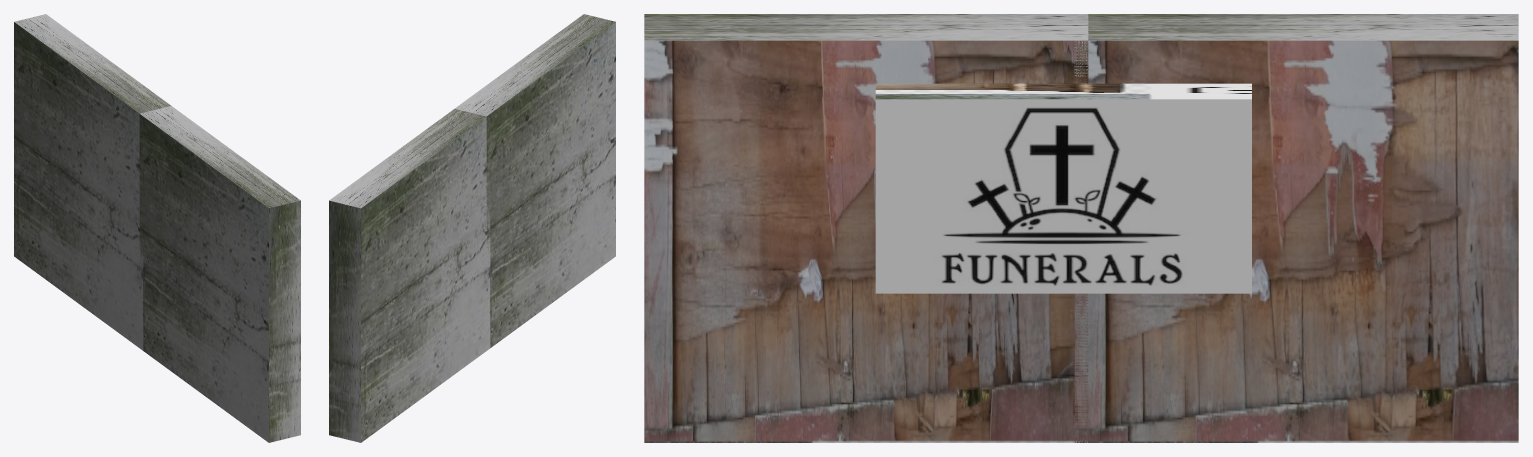
File: Cementery Wall.fbx
The picture shows the model from 3 angles, left to right: view 1: azimuth 30°, elevation 25°; view 2: azimuth 150°, elevation 25°; view 3: azimuth 270°, elevation 25°; orthographic projection. The views are drawn at different scales.
Visible parts, largest first — view 1: Cube, Cube.001; view 2: Cube.001, Cube; view 3: Cube.001, Cube, Cube.002.
Part boxes in pixels (bbox=[...]): Cube: bbox=[139, 106, 300, 442]; Cube.001: bbox=[14, 14, 171, 350]; Cube.001: bbox=[329, 108, 490, 442]; Cube: bbox=[455, 14, 615, 347]; Cube.001: bbox=[1074, 14, 1518, 442]; Cube: bbox=[644, 14, 1088, 442]; Cube.002: bbox=[875, 83, 1251, 293].
Bounding box in the file's own units: 115 × 505 × 995.
2 materials, 2 textured.
